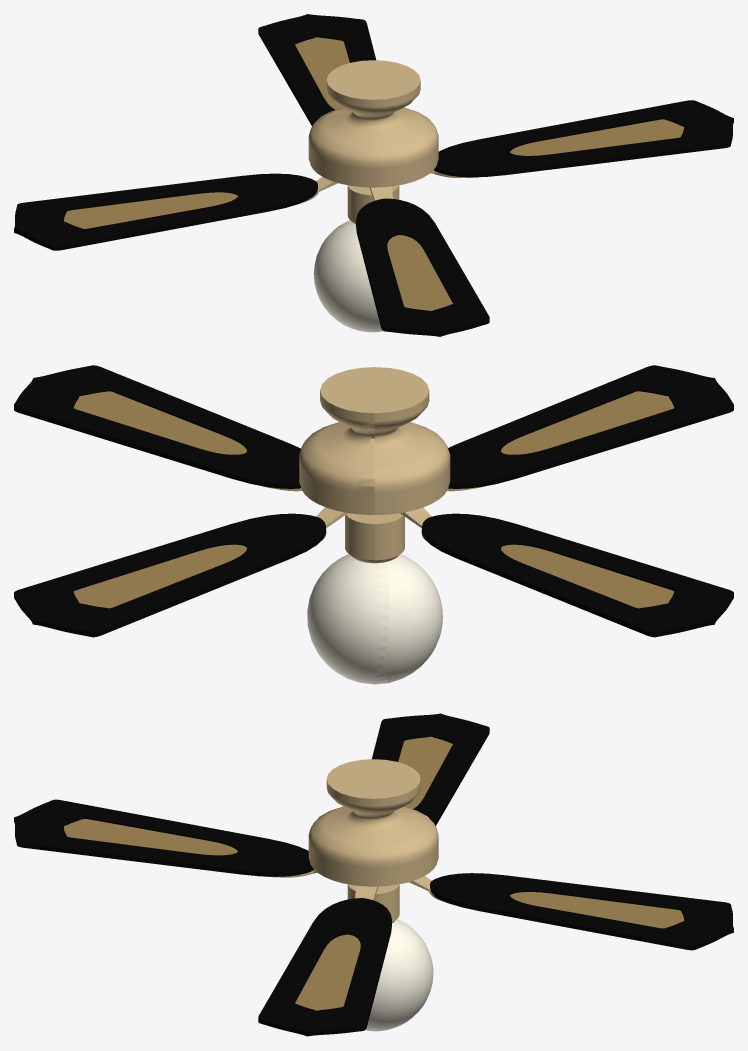
File: ceilingFan.gltf
The picture shows the model from 3 angles, top to bottom: view 1: azimuth 30°, elevation 25°; view 2: azimuth 150°, elevation 25°; view 3: azimuth 270°, elevation 25°; orthographic projection. The views are drawn at different scales.
Visible parts, largest first — view 1: CeilingFan5028_2_2, CeilingFan_1_1, CeilingFan6820_3_3, CeilingFan6900_4_4; view 2: CeilingFan5028_2_2, CeilingFan_1_1, CeilingFan6820_3_3, CeilingFan6900_4_4; view 3: CeilingFan5028_2_2, CeilingFan_1_1, CeilingFan6820_3_3, CeilingFan6900_4_4.
Part boxes in pixels (x1,y1,x2,y2): CeilingFan5028_2_2: [14, 14, 733, 336]; CeilingFan_1_1: [296, 60, 481, 224]; CeilingFan6820_3_3: [64, 37, 684, 310]; CeilingFan6900_4_4: [313, 220, 383, 332]; CeilingFan5028_2_2: [14, 365, 733, 637]; CeilingFan_1_1: [263, 367, 484, 563]; CeilingFan6820_3_3: [73, 391, 674, 608]; CeilingFan6900_4_4: [307, 554, 442, 684]; CeilingFan5028_2_2: [14, 713, 733, 1036]; CeilingFan_1_1: [268, 759, 449, 923]; CeilingFan6820_3_3: [63, 736, 684, 1010]; CeilingFan6900_4_4: [365, 919, 433, 1031].
Bounding box in the file's own units: 0.9213 × 0.3332 × 0.8789.
